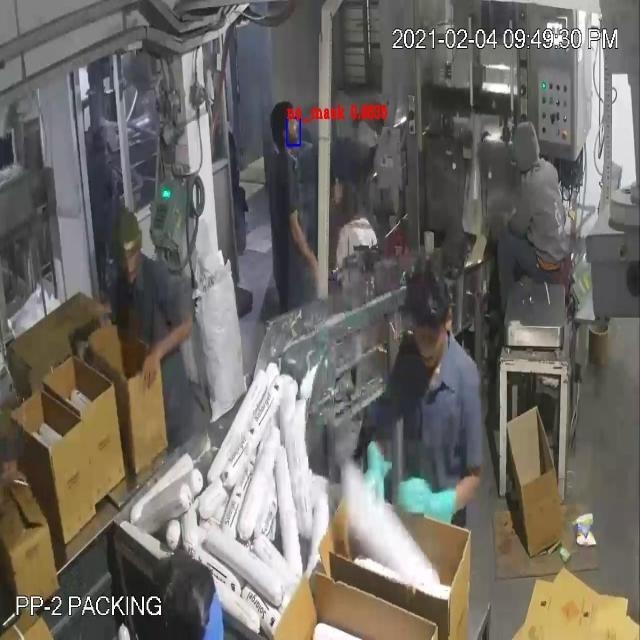No_Gloves: (38, 70, 432, 498)
